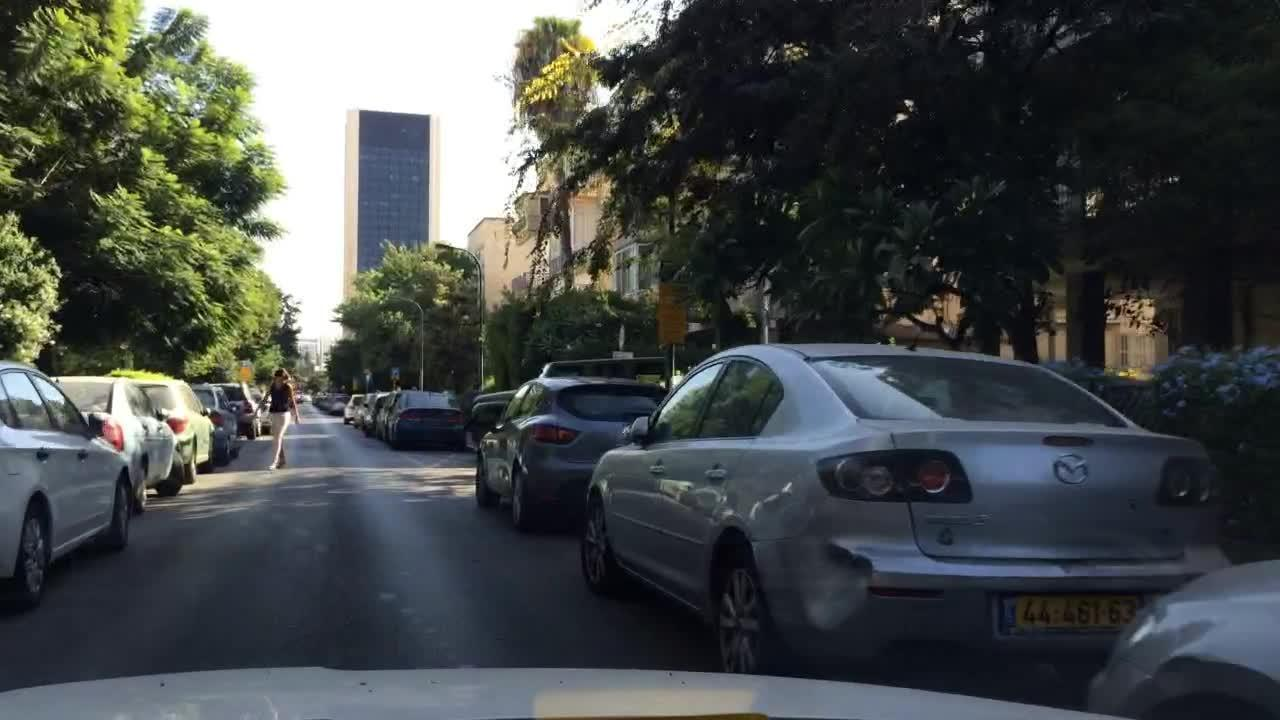Mazda: (1048, 447, 1096, 494)
